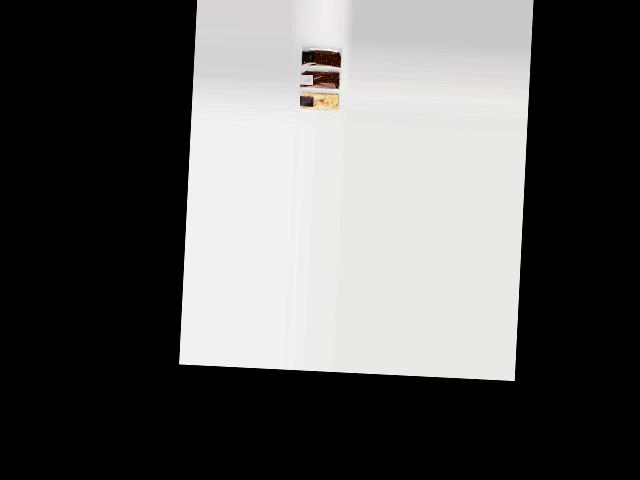chocolate: (302, 43, 345, 69)
